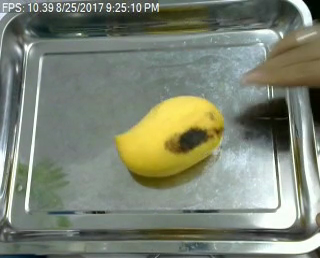Mango: (112, 94, 223, 181)
